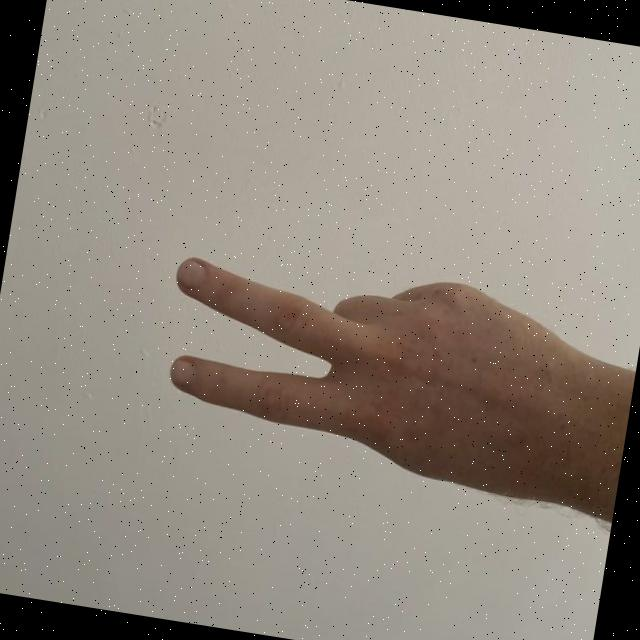scissors: (144, 234, 616, 520)
